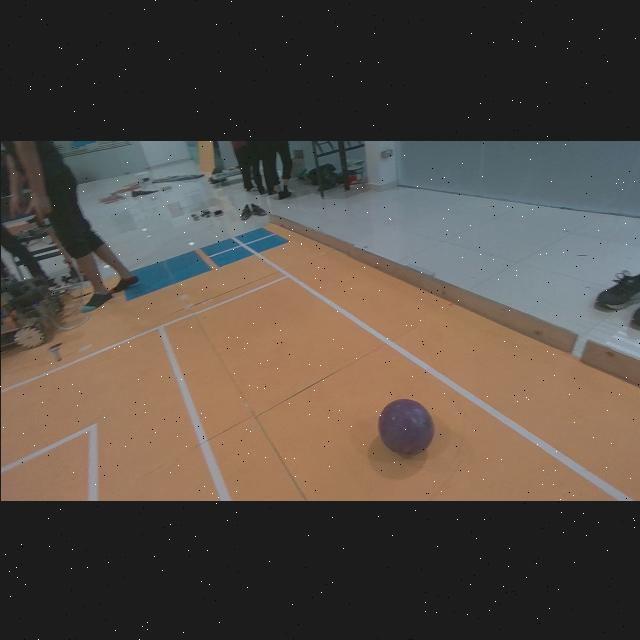P: (377, 399, 433, 455)
